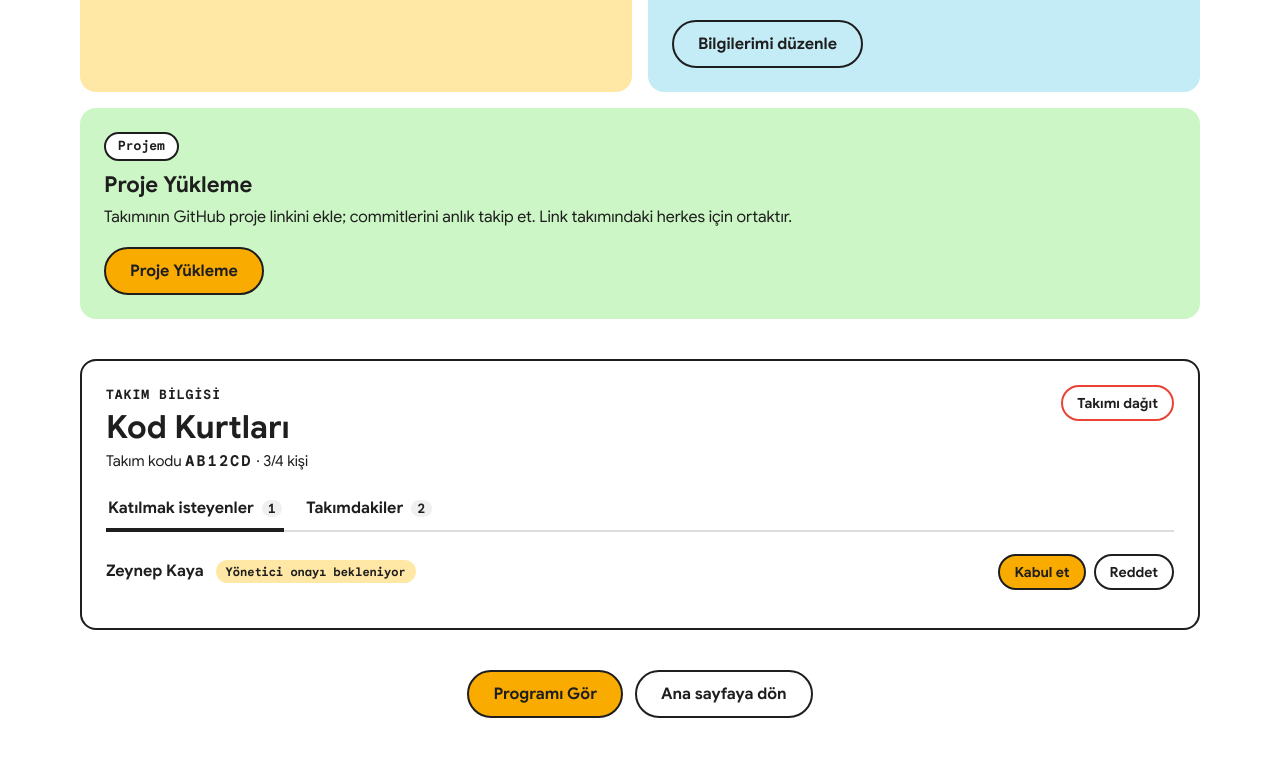
Test case: Başvurum sayfası › kaptan, onaylı bir üyeyi e-posta koduyla kaptan yapar
(page scrolled)
Click the tab "Takımdakiler 2": (369, 510) x1=304 y1=489 x2=434 y2=532
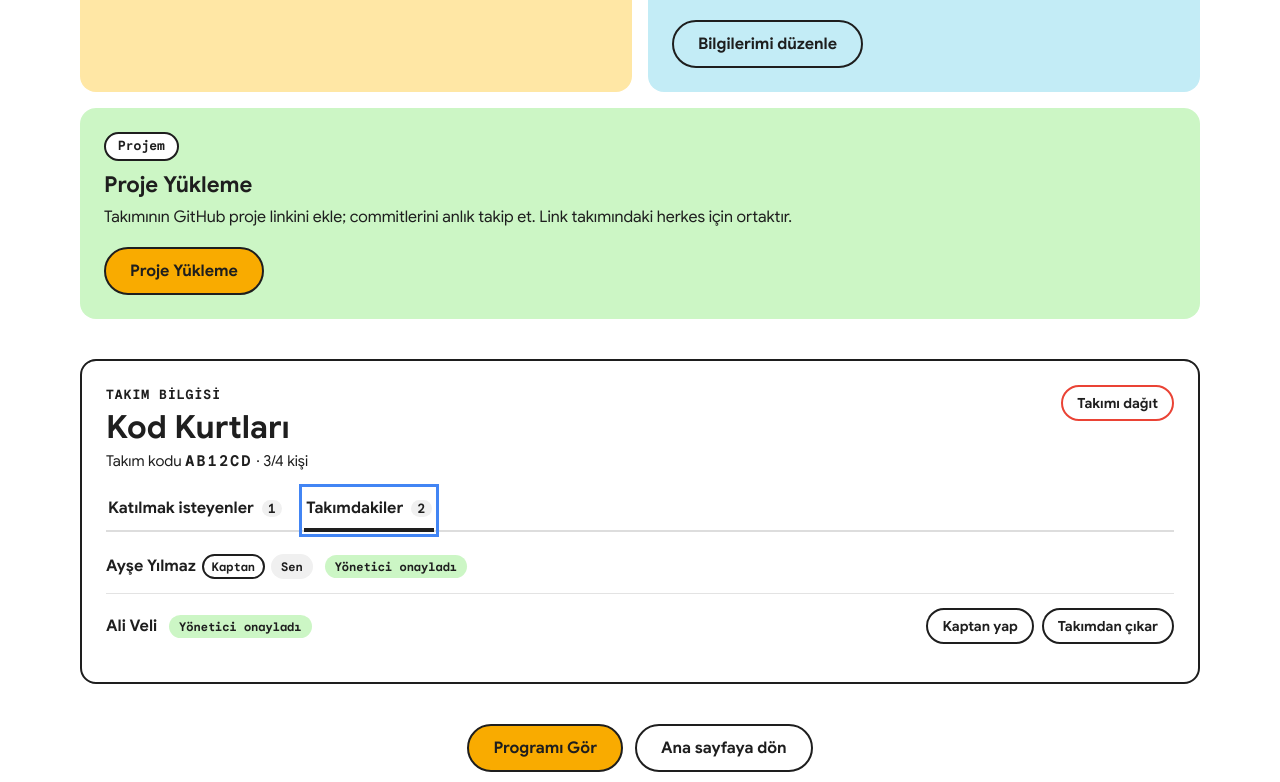
Click the button "Kaptan yap": (980, 626) x1=926 y1=608 x2=1034 y2=644
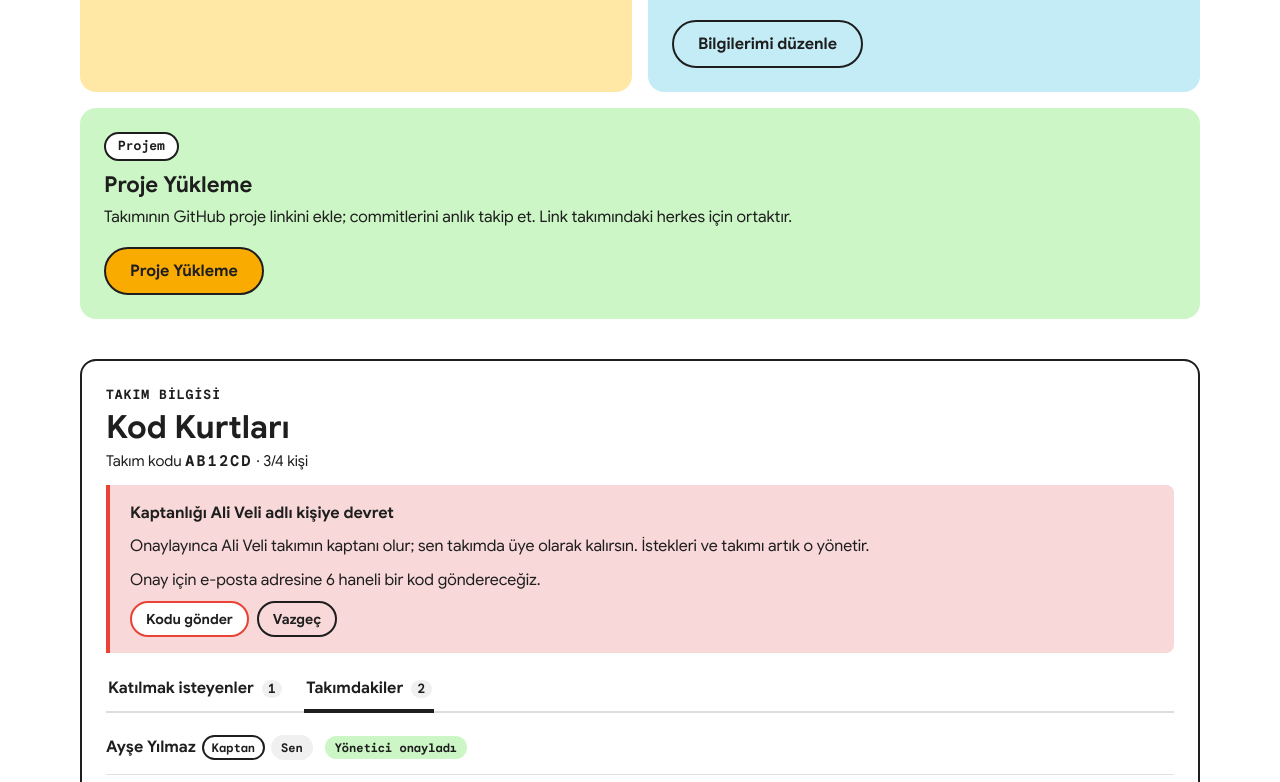
Check: the text "sen takımda üye olarak kalırsın" is shown, box x1=130 y1=536 x2=869 y2=556
Check: the button "Takımı dağıt" is gone
Click the button "Kodu gönder": (189, 620) x1=130 y1=602 x2=249 y2=638
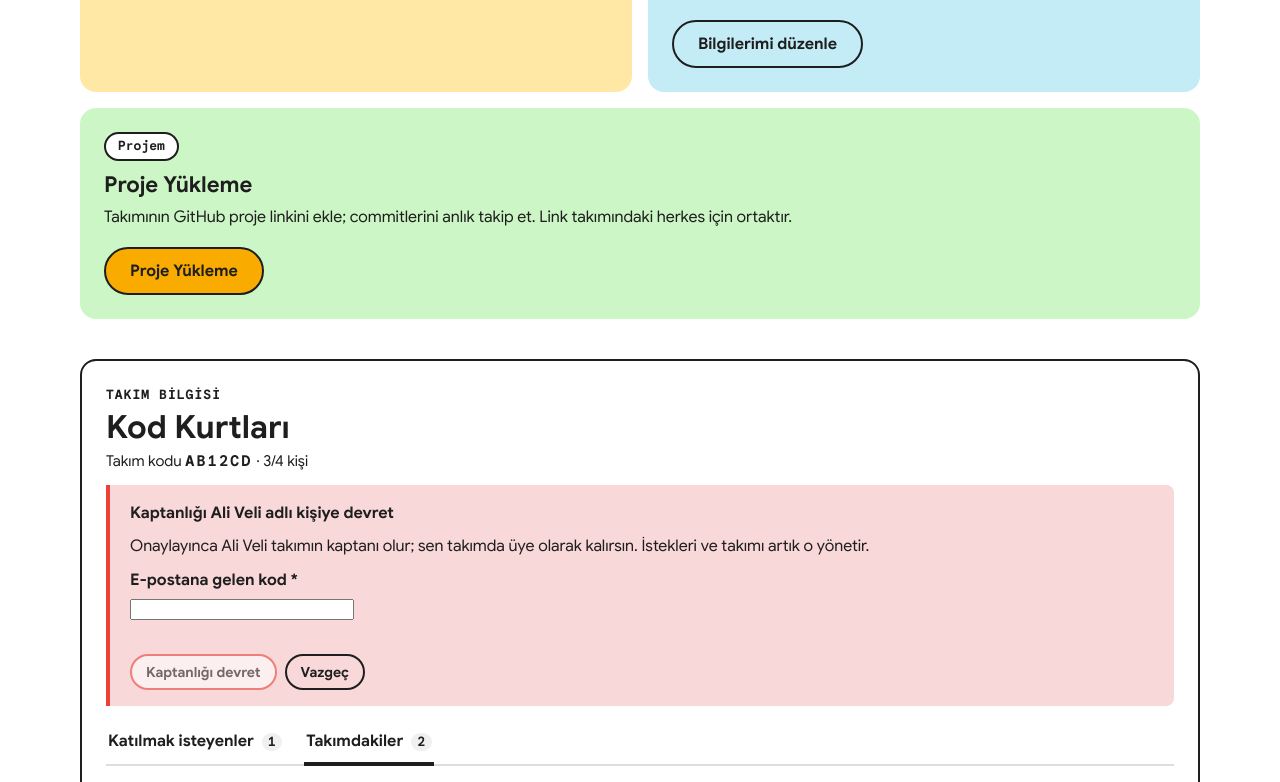
In the field labelled "E-postana gelen kod": (242, 610) x1=130 y1=600 x2=354 y2=620, type "654321"
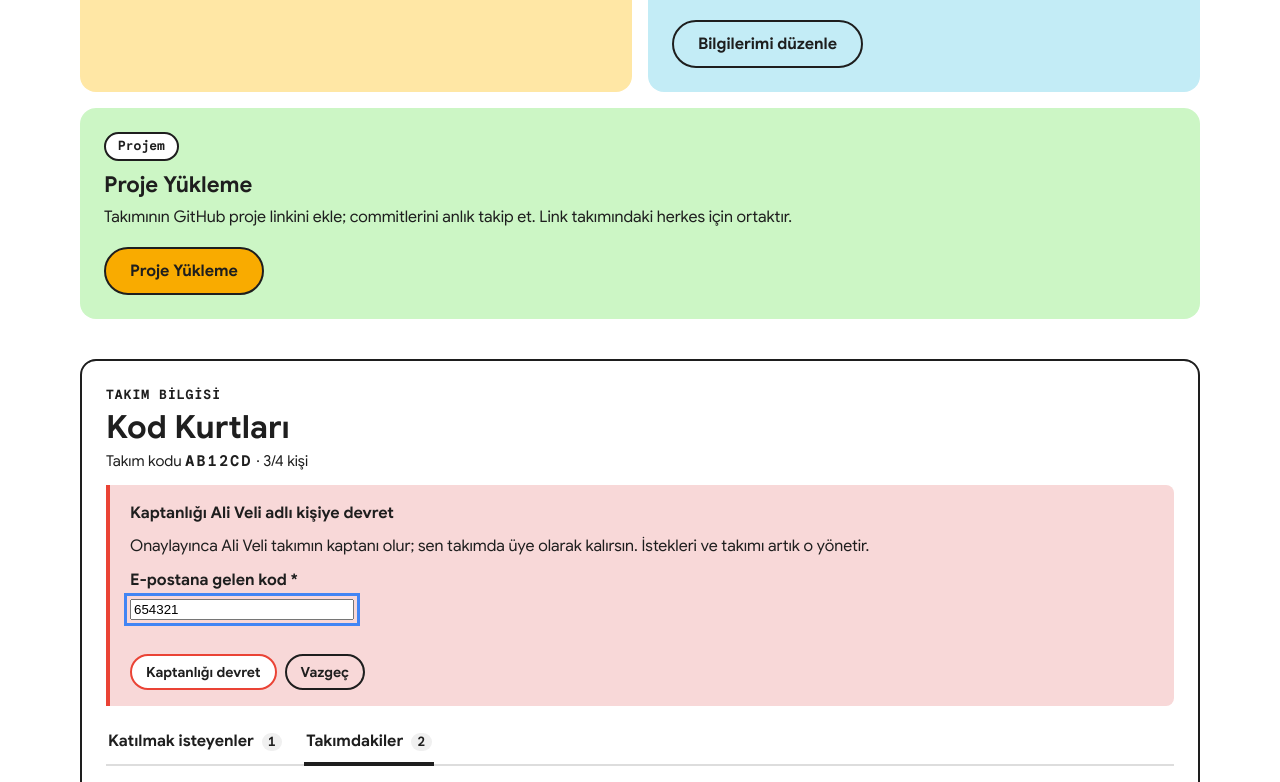
Click the button "Kaptanlığı devret": (203, 672) x1=130 y1=654 x2=277 y2=690
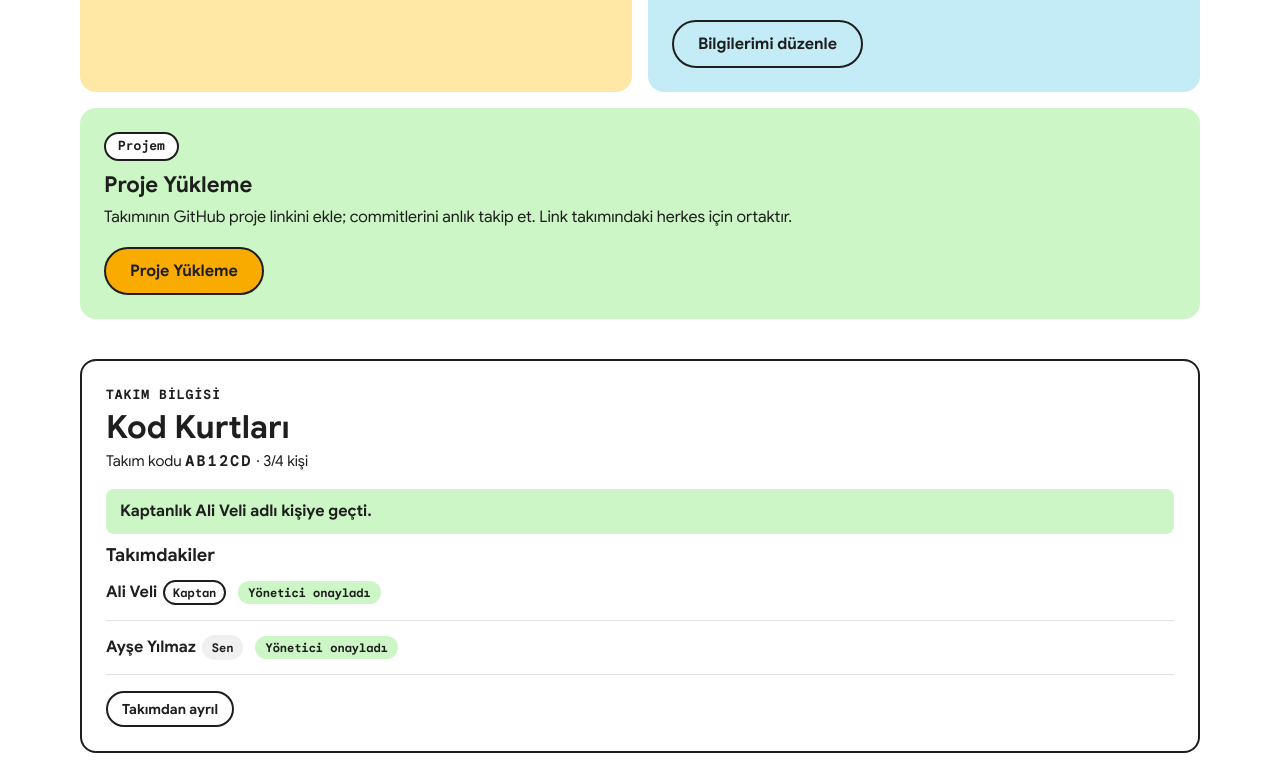
Check: the text "Kaptanlık Ali Veli adlı kişiye geçti." is shown, box x1=106 y1=489 x2=1174 y2=534
Check: the tab is gone
Check: the button "Takımdan ayrıl" is shown, box x1=106 y1=691 x2=234 y2=727
